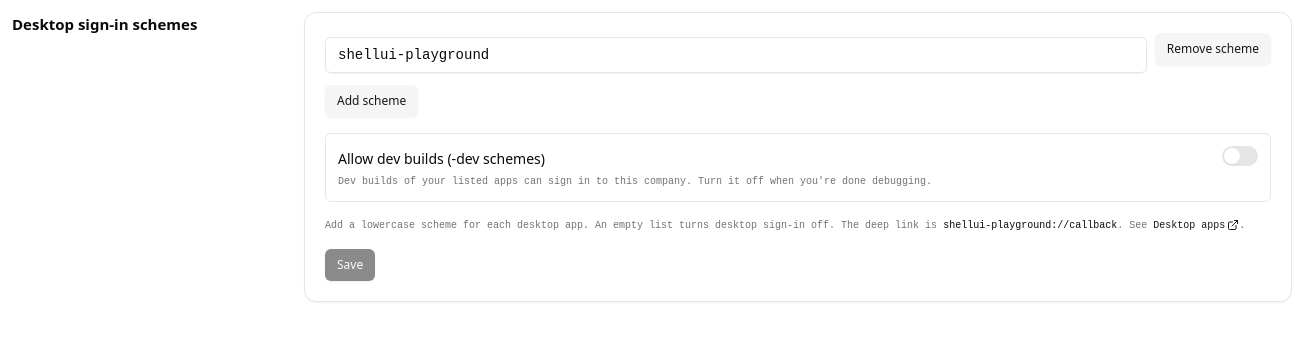
it: CompanyDesktopSchemesSection › shows a 403 from the dev-scheme save with the company error text
Step 1. Click the switch named "allow dev builds" → x=1240, y=156, box [1222, 146, 1258, 166]
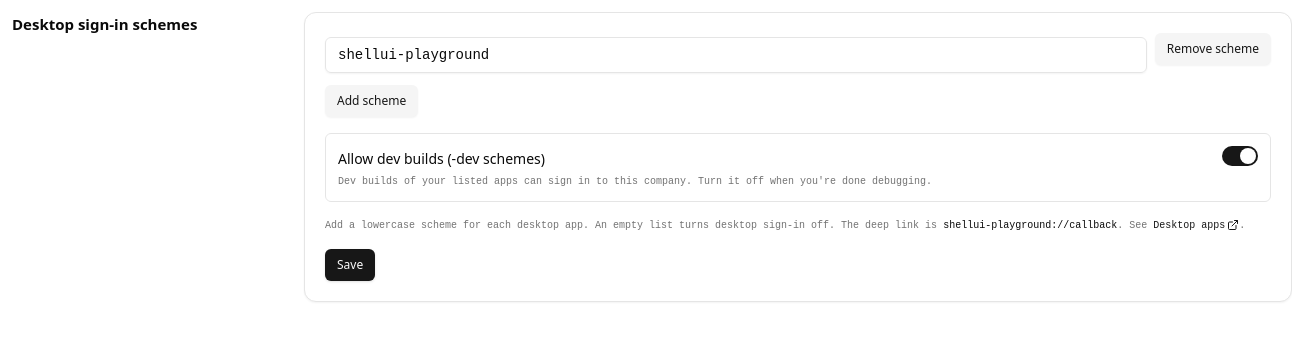
Step 2. Click the button "Save" → x=350, y=265, box [325, 249, 375, 281]
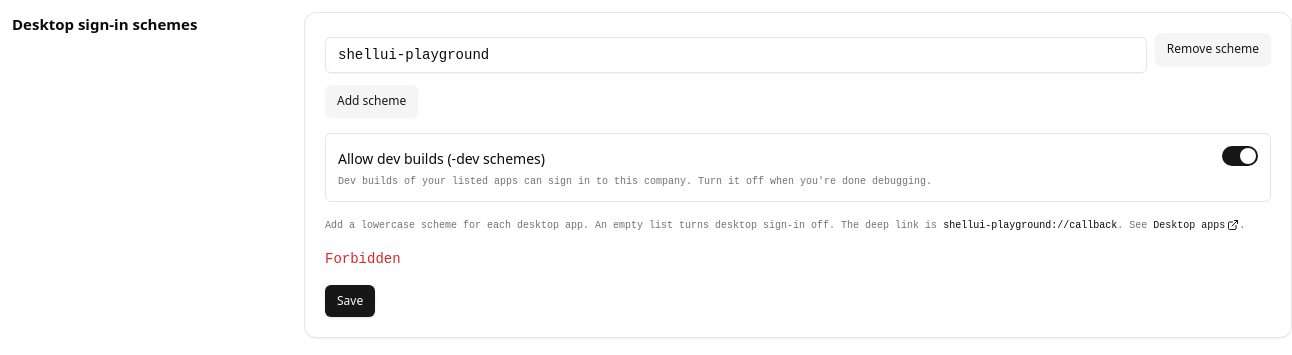
expect the text "Forbidden" is shown: met, box [325, 251, 401, 267]
